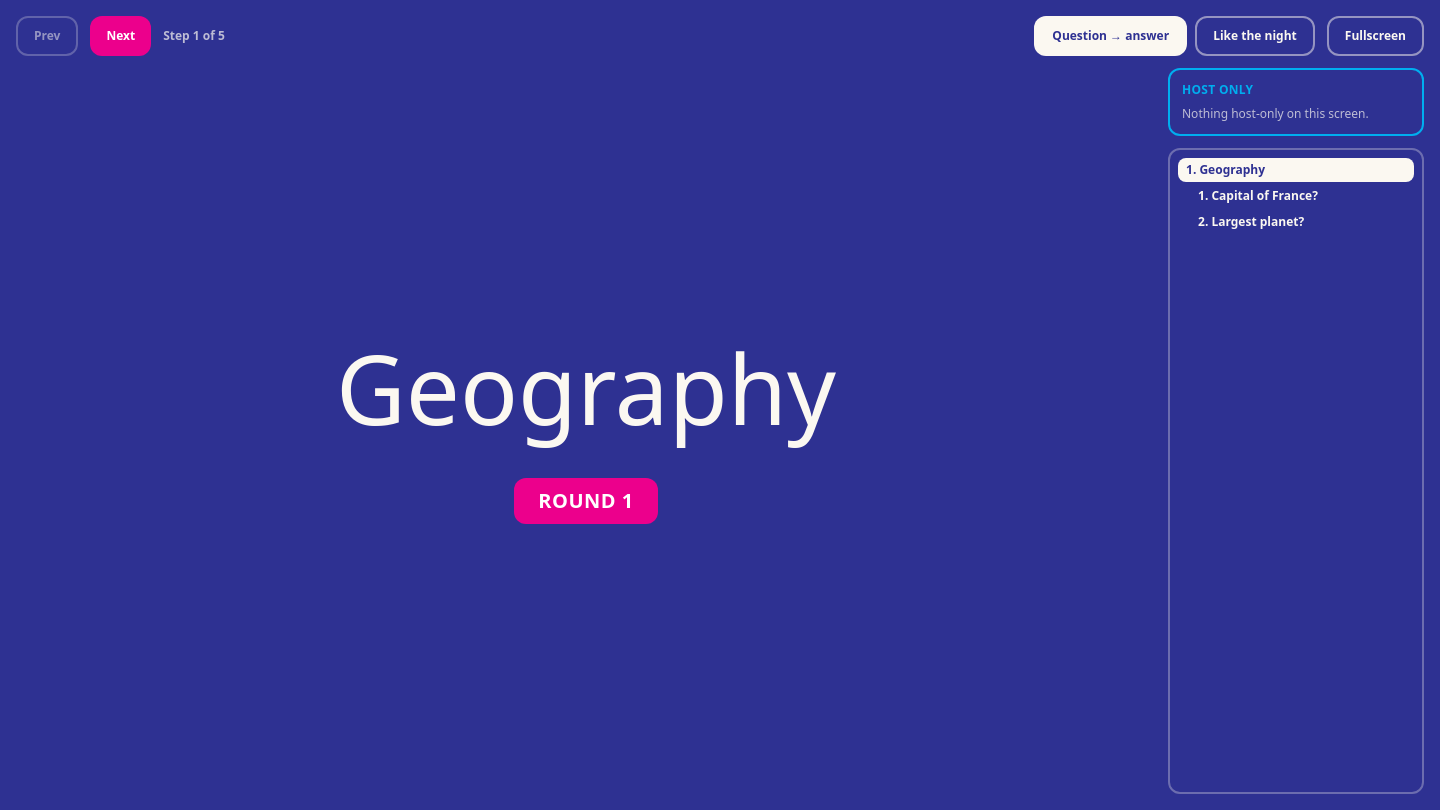
Test case: QuizPreviewPanel › steps through question then answer with the Next and Prev buttons
This screenshot has width=1440, height=810.
What coordinates should you click on to do the following:
click the button "Next"
I would click on:
 (121, 36)
Its box is [90,16,151,56].
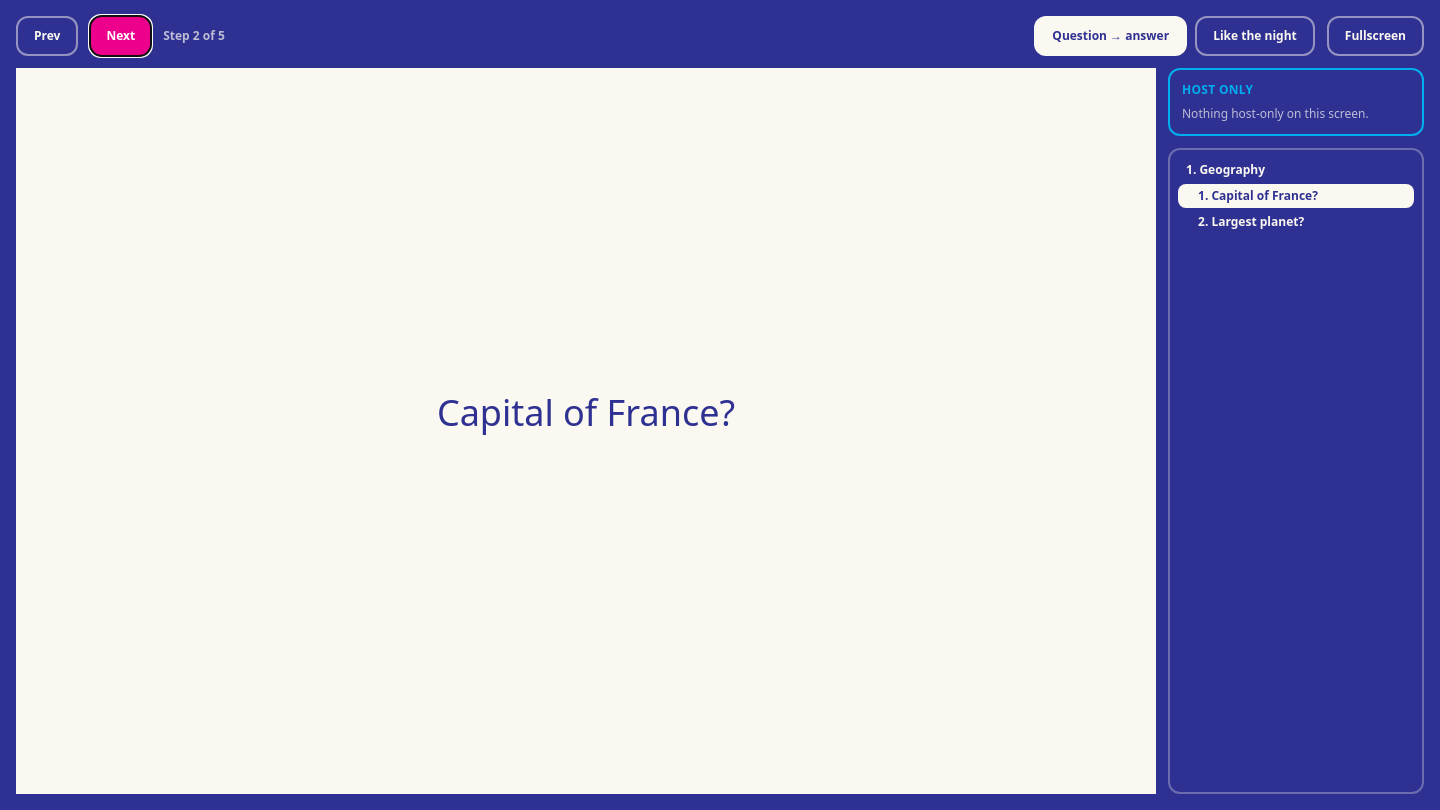
Check: the text "Paris" is not shown
Check: the heading "Capital of France?" is shown, box [437,388,735,438]
What coordinates should you click on to do the following:
click the button "Next"
I would click on:
 (121, 36)
Its box is [90,16,151,56].
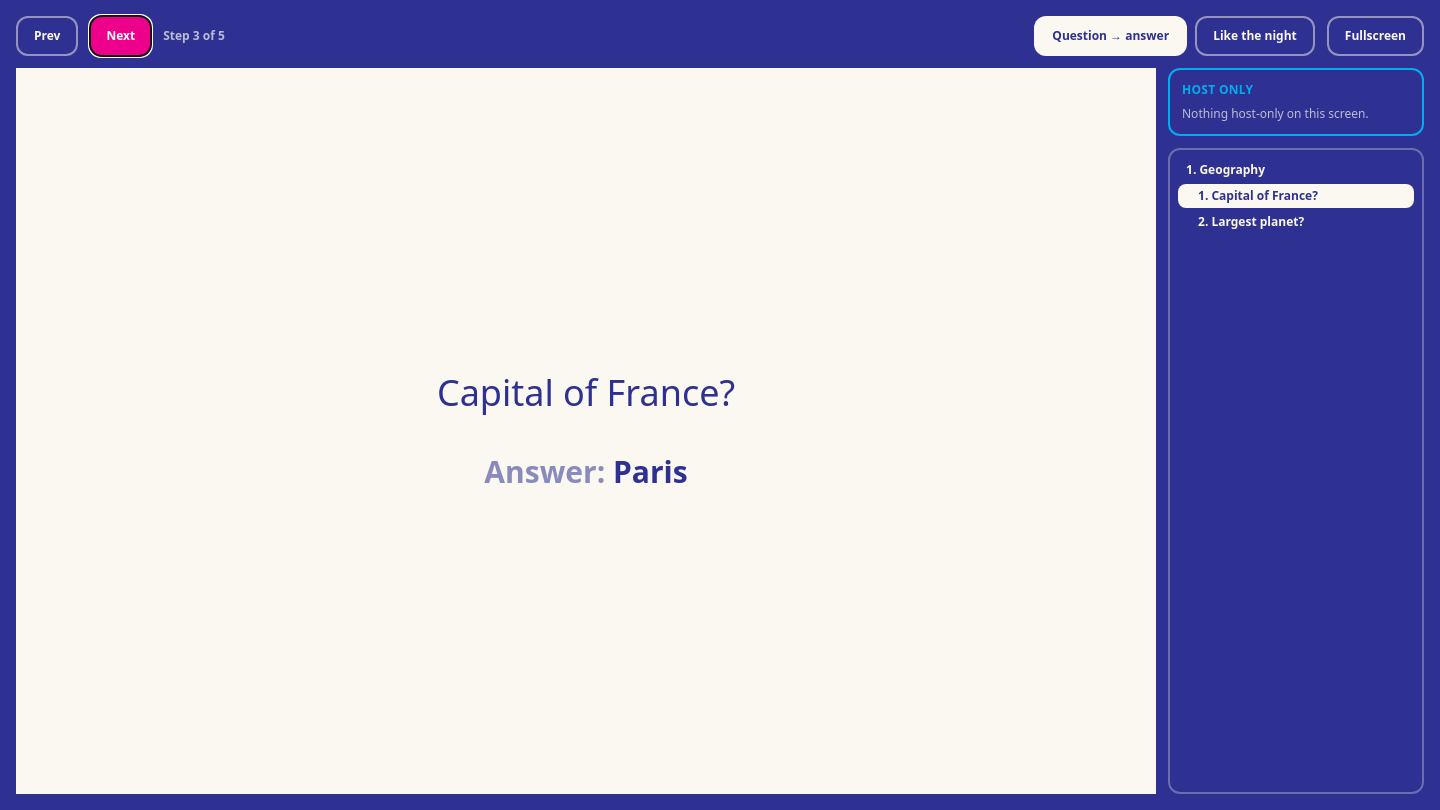
Check: the heading "Capital of France?" is shown, box [437,368,735,417]
Check: the text "Paris" is shown, box [613,451,688,492]
What coordinates should you click on to do the following:
click the button "Prev"
I would click on:
 (47, 36)
Its box is [16,16,78,56].
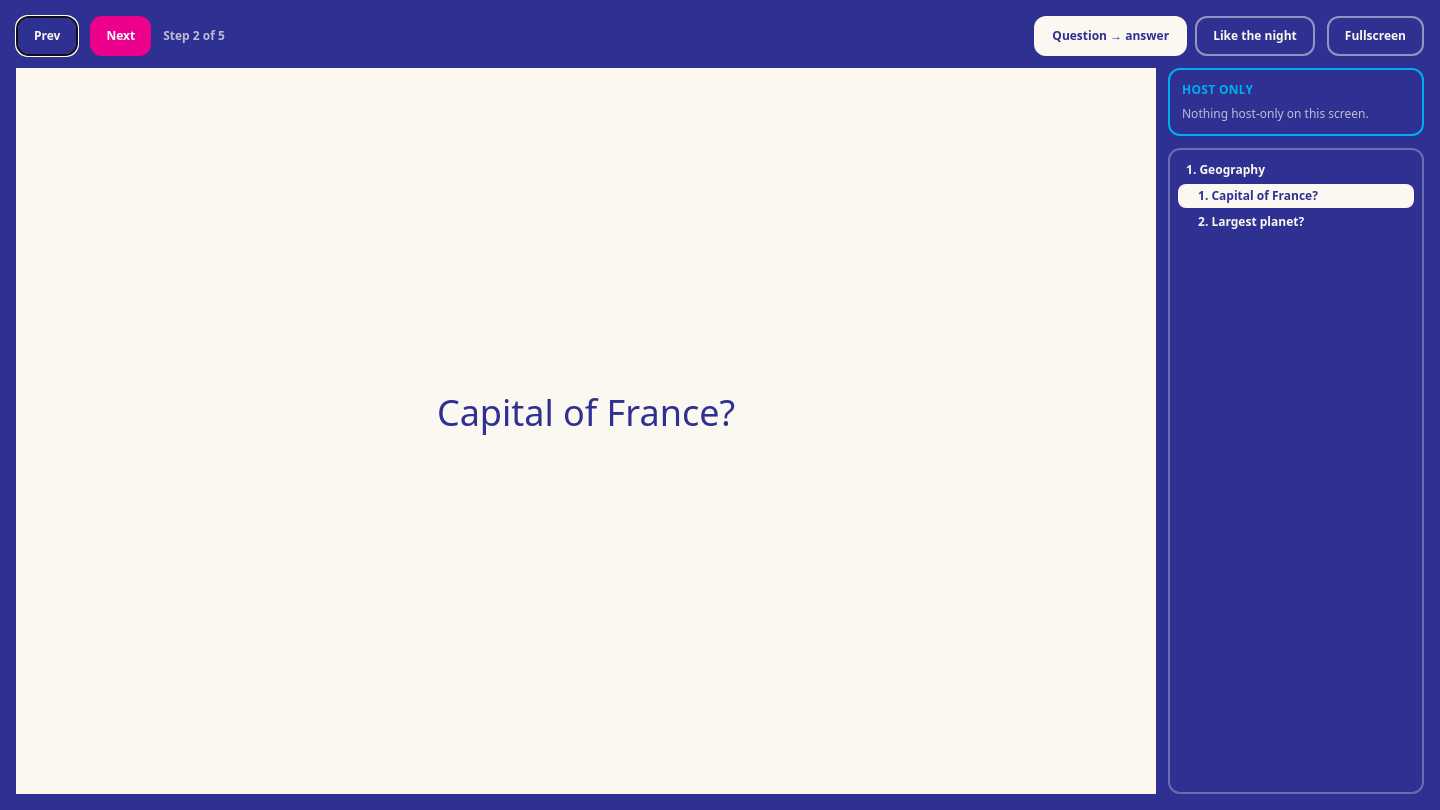
Check: the text "Paris" is gone
